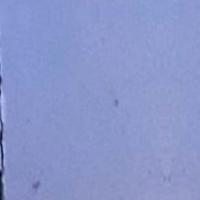crack: (0, 76, 19, 199)
